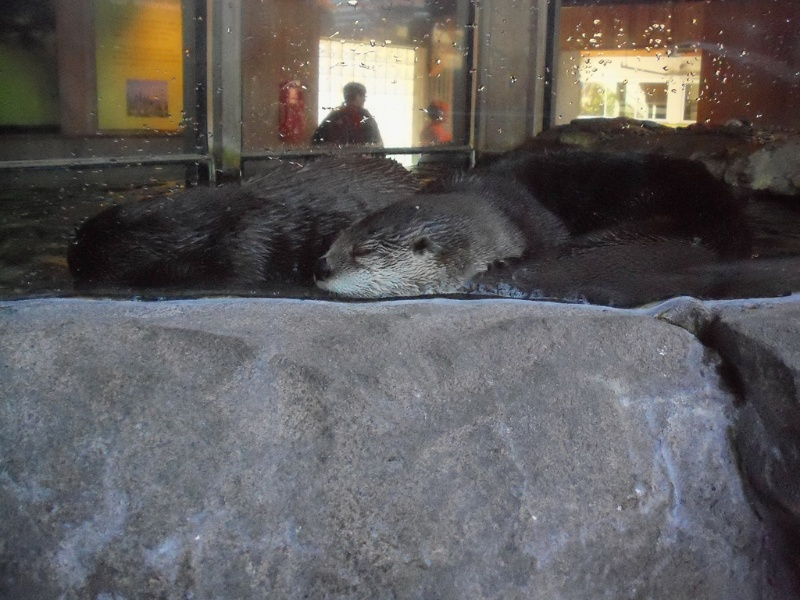minkish: (310, 147, 747, 295), (65, 151, 406, 295)
